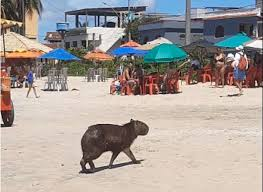capivara: (79, 119, 149, 174)
